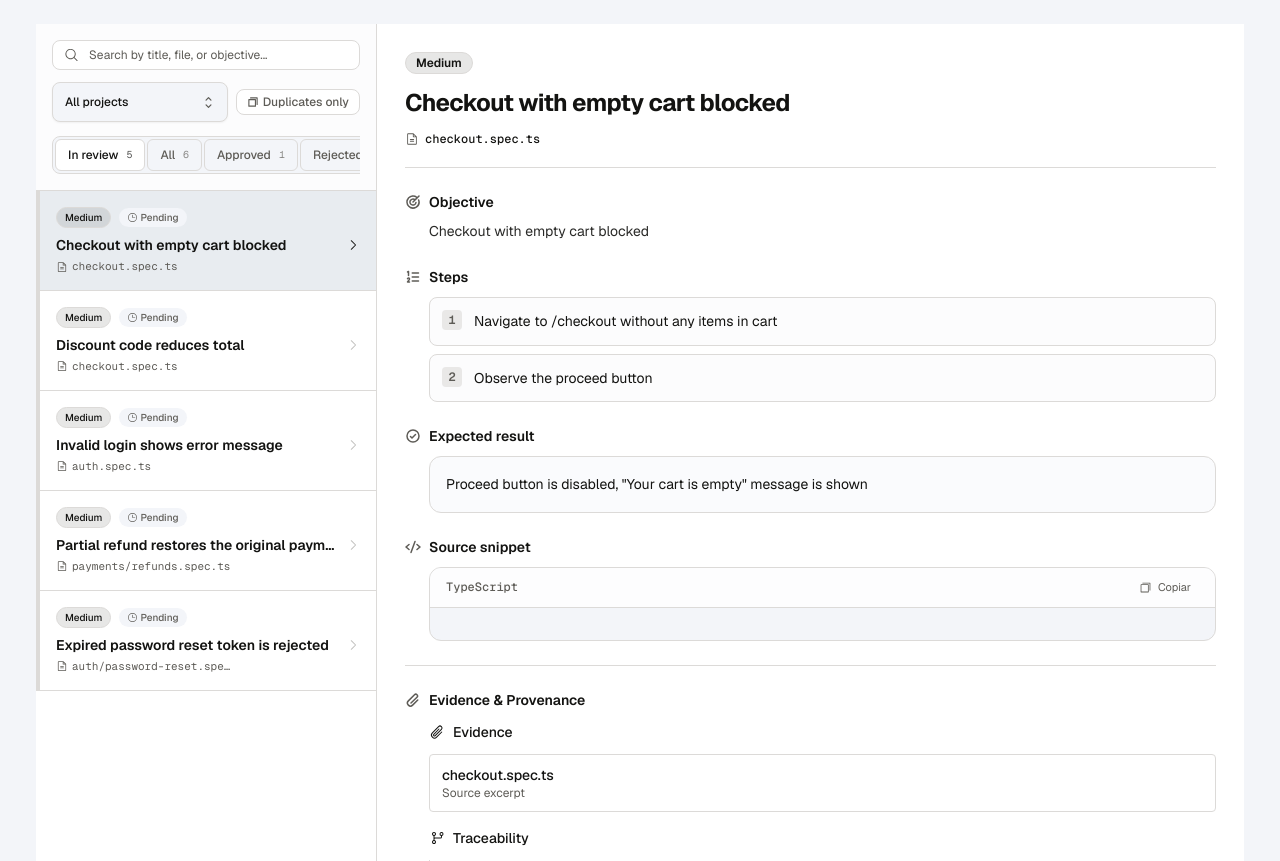
Test: ReviewInboxPage › approval conflicts › collapses repeated identical failures into one alert with a count that the reviewer can dismiss
Expected: the heading "Checkout with empty cart blocked" is shown, [405,87,790,118]
Step 1. Type keys "a"
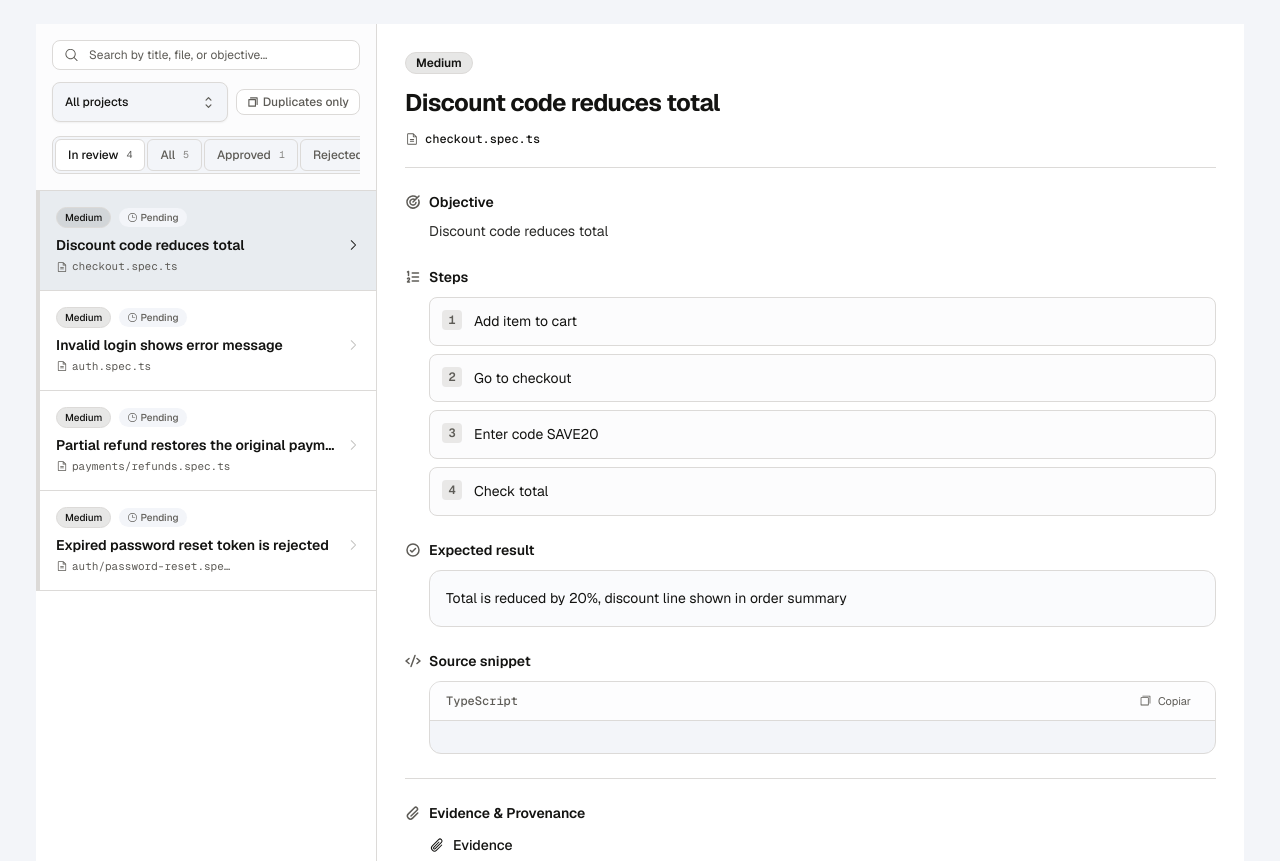
Result: the heading "Discount code reduces total" is shown at [405,87,720,118]
Step 2. Type keys "a"
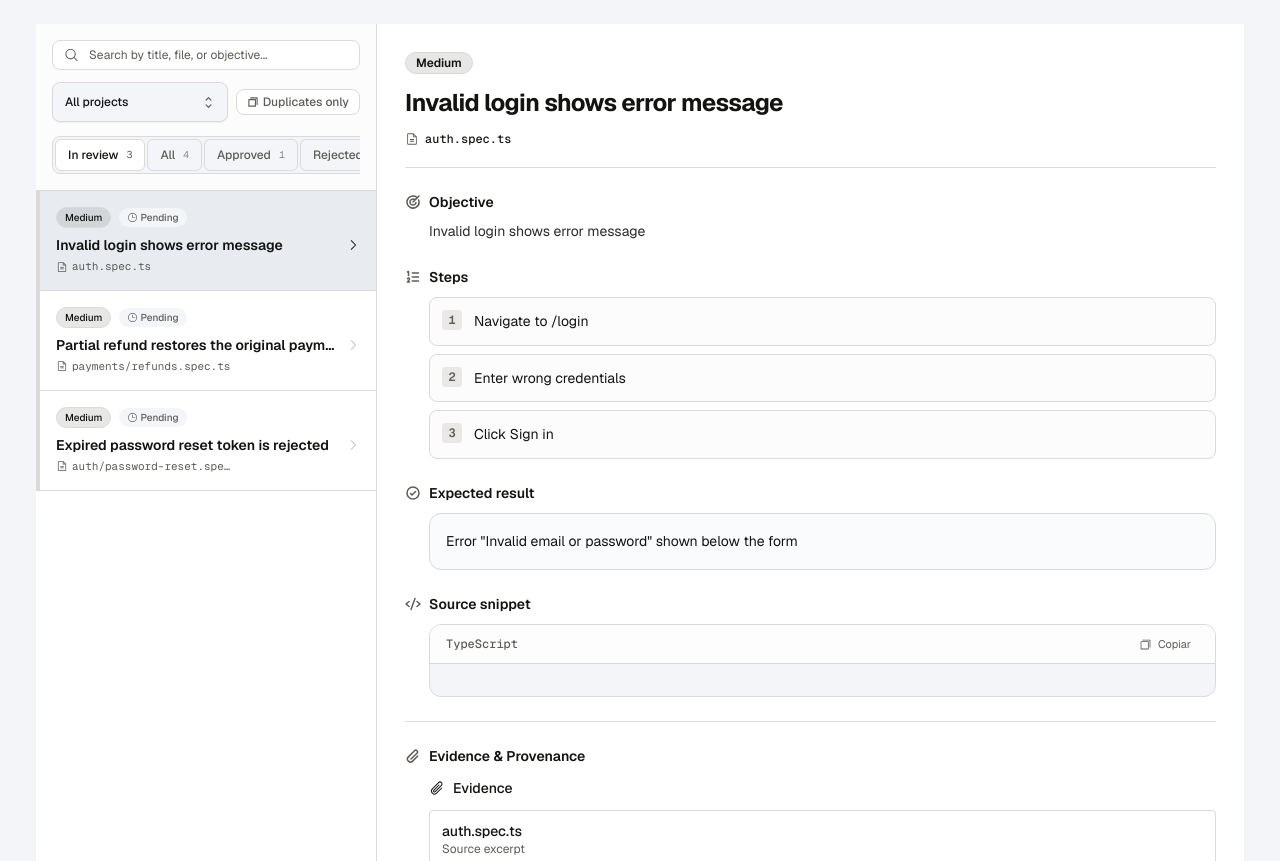
Result: the heading "Invalid login shows error message" is shown at [405,87,783,118]
Step 3. Type keys "a"
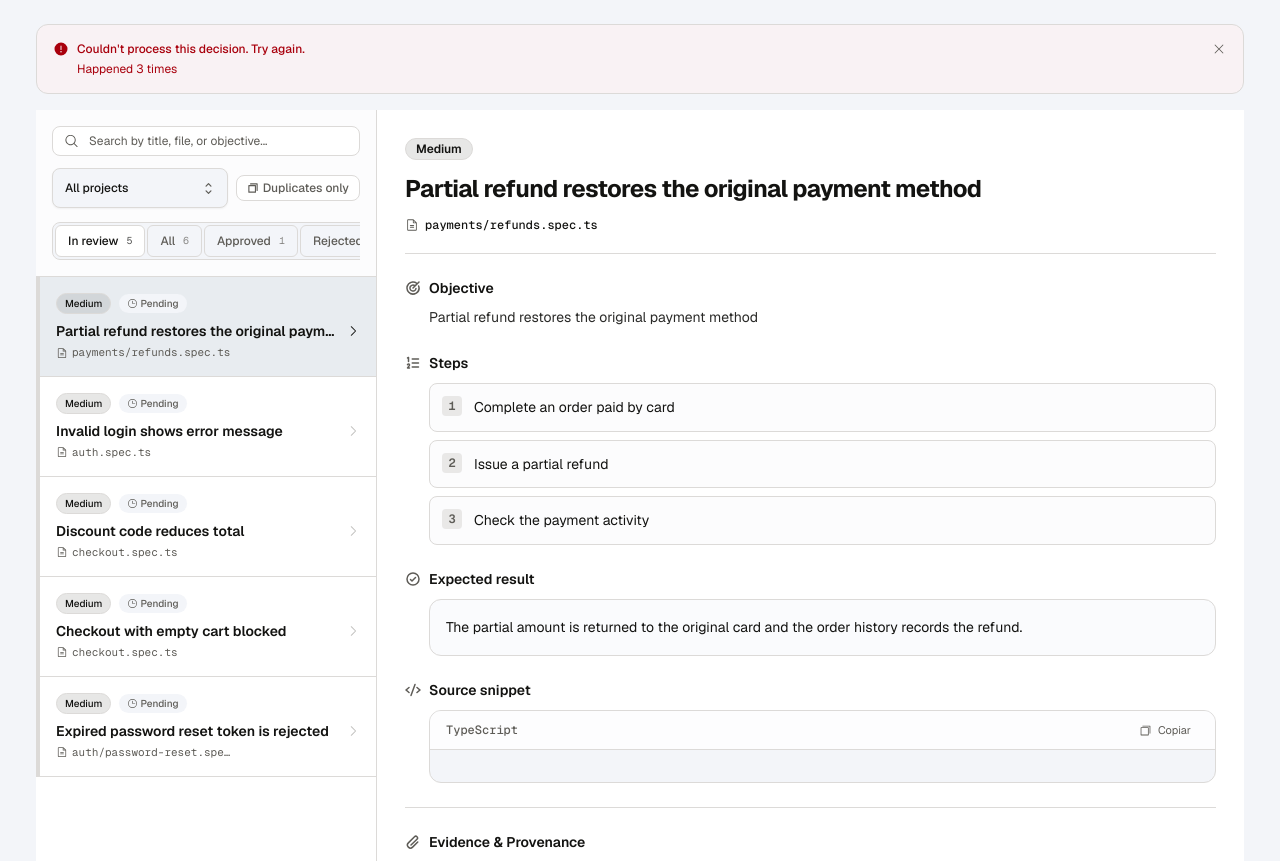
Result: the message shows "Happened 3 times" at [77,61,177,77]
Result: the number of messages is 1 at [36,24,1244,94]
Result: the message shows "Couldn't process this decision" at [77,41,305,57]
Step 4. Click the button named "Dismiss" → (1219,49), box [1203,33,1235,65]
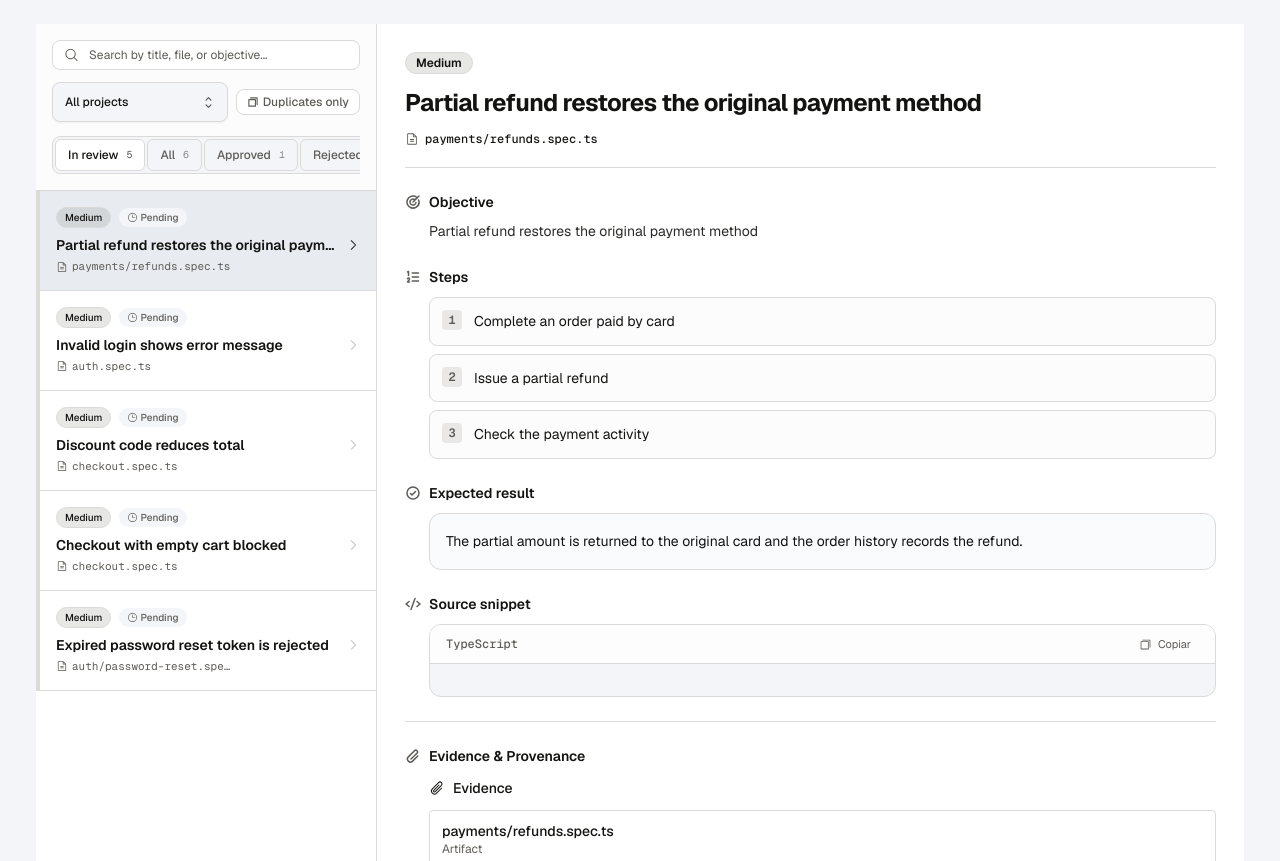
Result: the message "Couldn't process this decision. Try again. Happened 3 times" is gone
